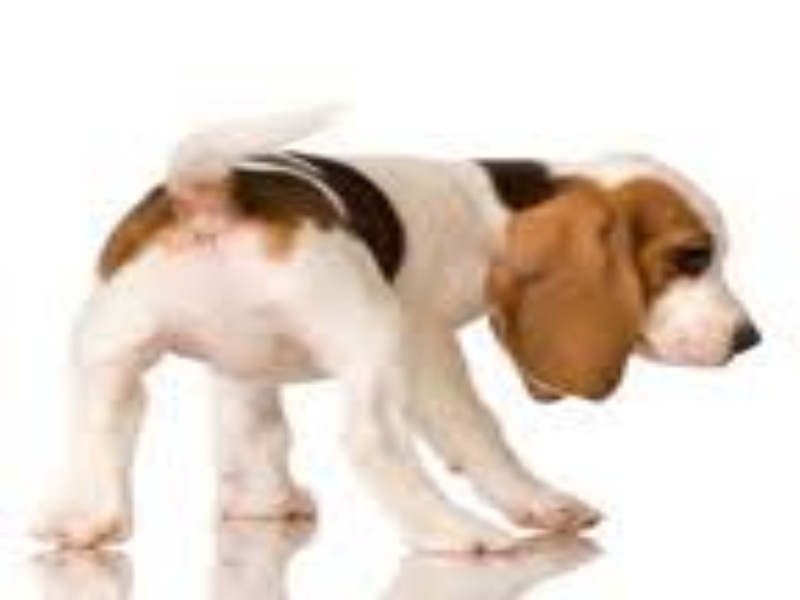dog: (40, 96, 769, 573)
